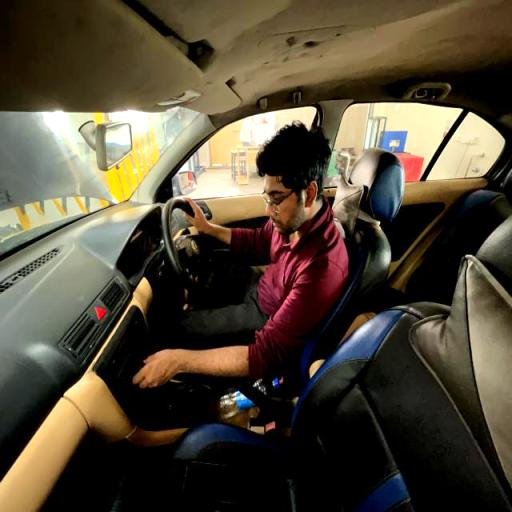operatingradio: (126, 123, 345, 400)
